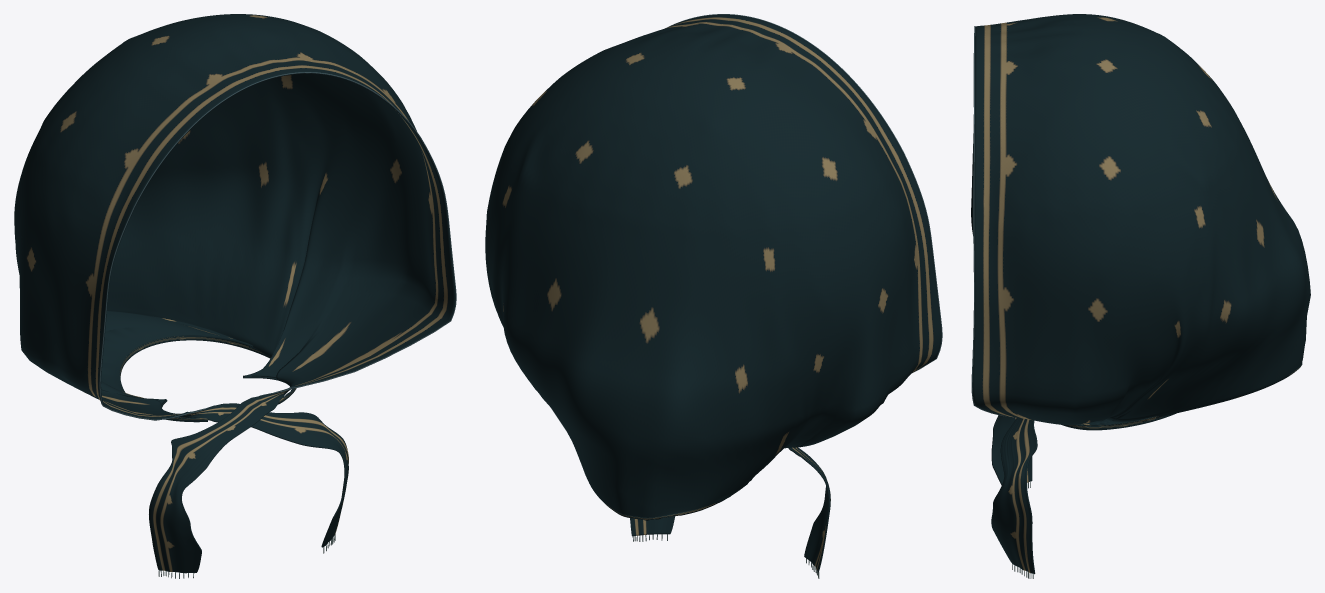
Rendered from Feminine-ponytail-strappy-pashmina249-headgear.glb.
The picture shows the model from 3 angles, left to right: view 1: azimuth 30°, elevation 25°; view 2: azimuth 150°, elevation 25°; view 3: azimuth 270°, elevation 25°; orthographic projection. The views are drawn at different scales.
Visible parts, largest first — view 1: 226 headgear / Headwear / continuous woven pashmina239, 226 headgear / Headwear / face edge239; view 2: 226 headgear / Headwear / continuous woven pashmina239, 226 headgear / Headwear / face edge239; view 3: 226 headgear / Headwear / continuous woven pashmina239, 226 headgear / Headwear / face edge239.
Part boxes in pixels (left/top/right/bottom): 226 headgear / Headwear / continuous woven pashmina239: left=14, top=14, right=455, bottom=573; 226 headgear / Headwear / face edge239: left=99, top=72, right=456, bottom=420; 226 headgear / Headwear / continuous woven pashmina239: left=485, top=14, right=941, bottom=572; 226 headgear / Headwear / face edge239: left=665, top=14, right=942, bottom=372; 226 headgear / Headwear / continuous woven pashmina239: left=971, top=14, right=1310, bottom=574; 226 headgear / Headwear / face edge239: left=971, top=26, right=1012, bottom=417.
Bounding box in the file's own units: 1.02 × 1.37 × 0.8332.
Materials: 3 (1 with a texture image).
